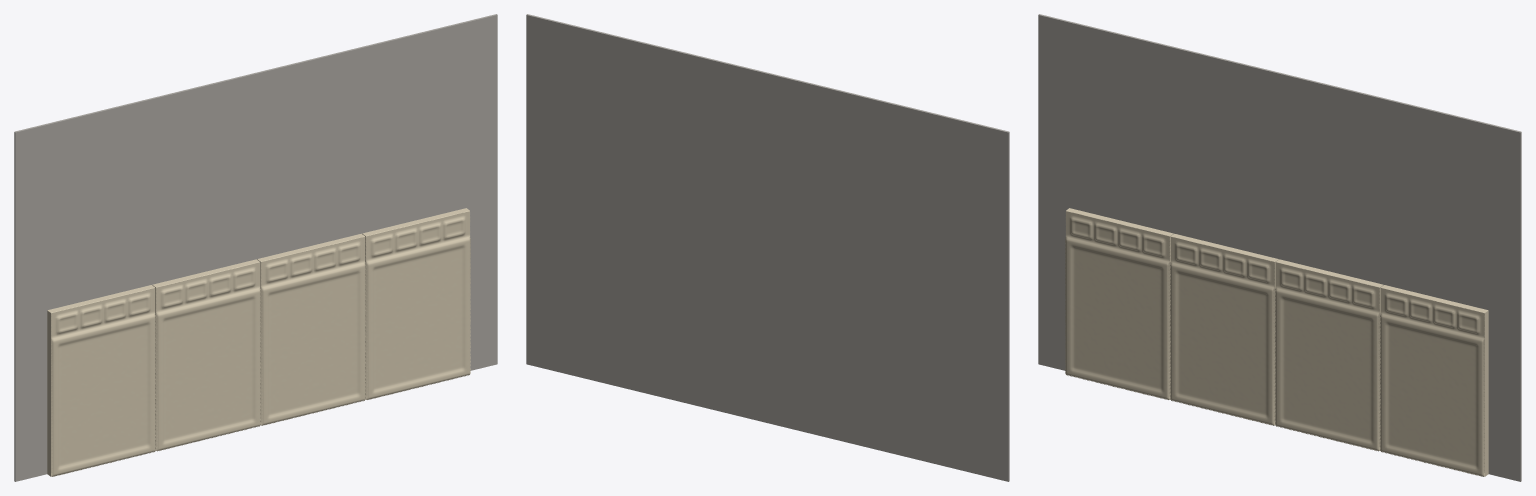
Rendered from terilgan.glb.
3 renders of one model, left to right at view 1: azimuth 30°, elevation 25°; view 2: azimuth 150°, elevation 25°; view 3: azimuth 330°, elevation 25°, orthographic.
Parts seen in each view (by area): view 1: Devor, t0, t1, t2, t3; view 2: Devor; view 3: Devor, t3, t2, t1, t0.
Part boxes in pixels (left/top/right/bottom): Devor: left=14, top=14, right=497, bottom=481; t0: left=47, top=285, right=155, bottom=476; t1: left=152, top=259, right=260, bottom=451; t2: left=257, top=233, right=365, bottom=425; t3: left=362, top=208, right=470, bottom=399; Devor: left=526, top=14, right=1009, bottom=481; Devor: left=1038, top=14, right=1521, bottom=481; t3: left=1380, top=285, right=1488, bottom=476; t2: left=1275, top=259, right=1383, bottom=451; t1: left=1170, top=233, right=1278, bottom=425; t0: left=1065, top=208, right=1173, bottom=399.
Size of the model in its own units: 2.31 by 1.6 by 0.0519.
